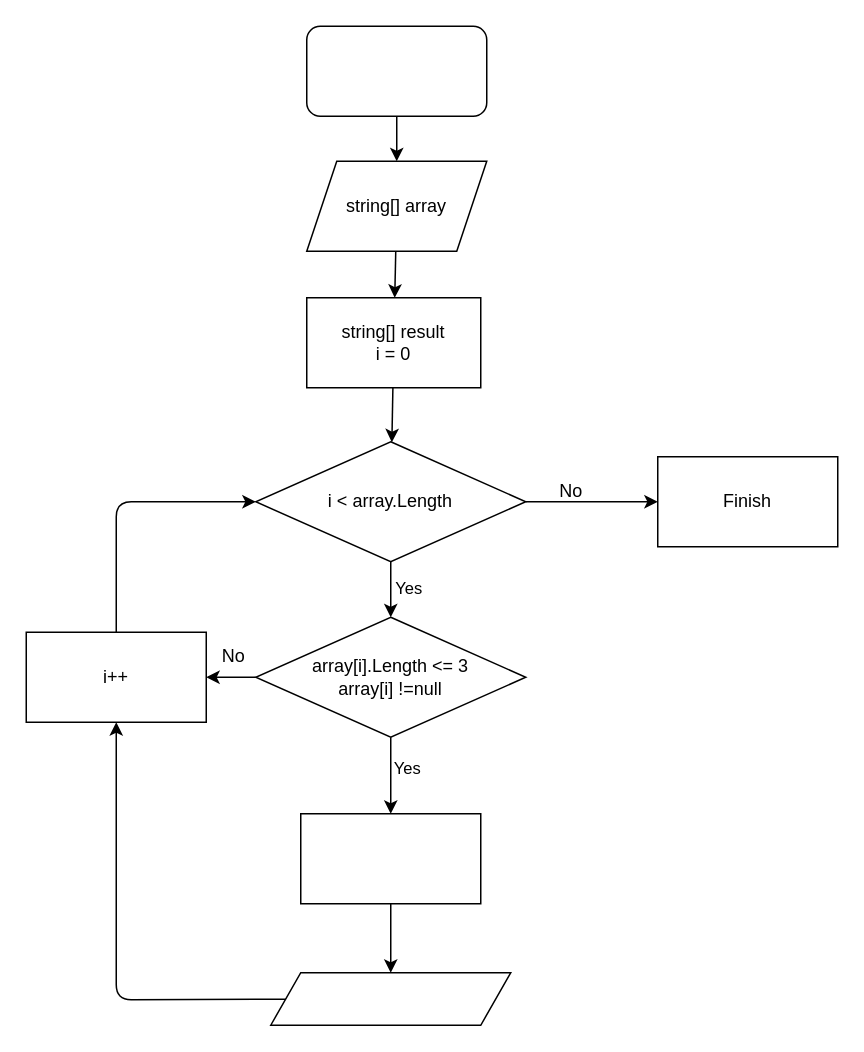
Some shapes in this 864 by 1052 pixel diagram are drawn without their labels. The centre of each missing label's shape, as x and y in pixels:
"Console.Write(result[i])" belongs at point (390, 998).
"result[i] = array[i]" belongs at point (390, 858).
"Start" belongs at point (396, 70).
